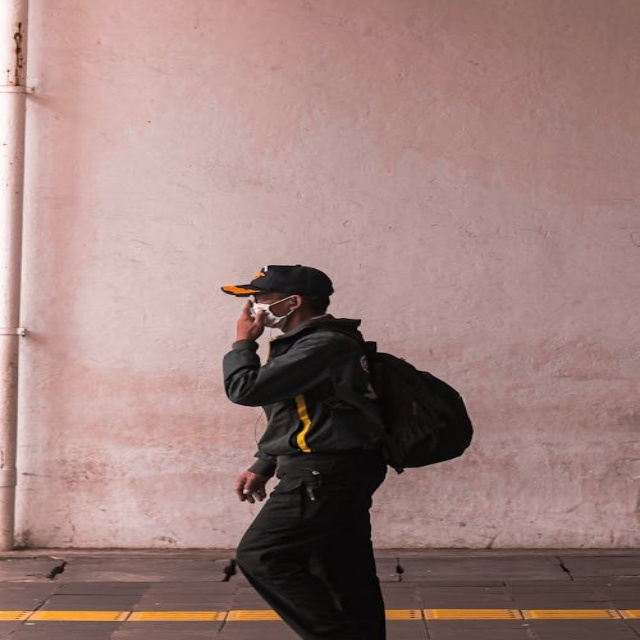Gafas: (246, 293, 292, 304)
Mascara: (248, 302, 291, 328)
Sin_guantes: (235, 469, 271, 504), (237, 300, 268, 339)
